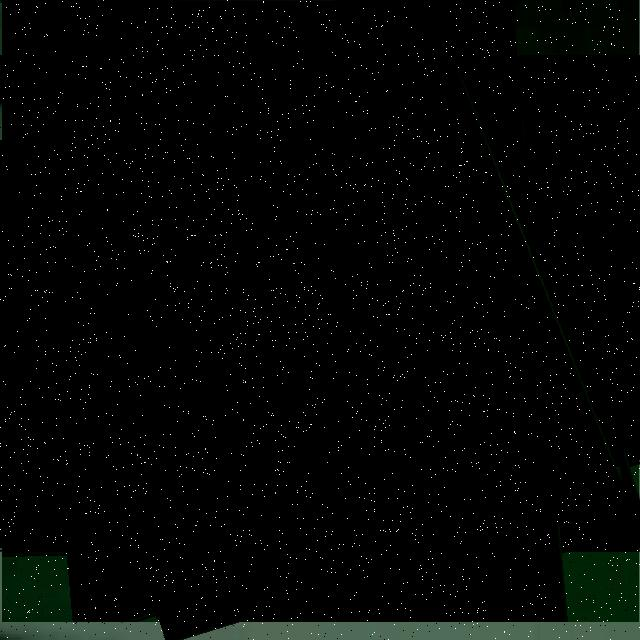dua ribu rupiah: (2, 0, 639, 622)
